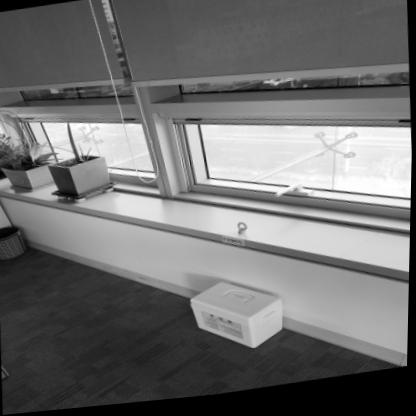DDL: (189, 277, 285, 361)
